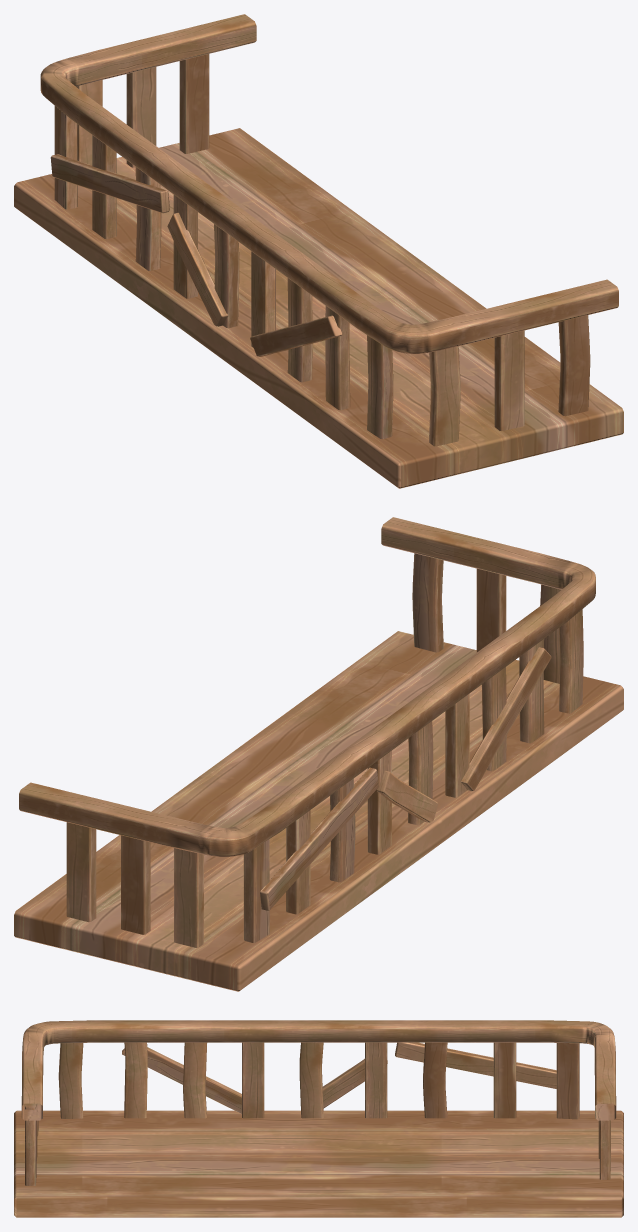
The model's file is SM_Balcony_01.fbx.
3 renders of one model, top to bottom at view 1: azimuth 30°, elevation 25°; view 2: azimuth 150°, elevation 25°; view 3: azimuth 270°, elevation 25°, orthographic. The views are drawn at different scales.
Visible parts, largest first — view 1: SM_Balcony_01_LOD0; view 2: SM_Balcony_01_LOD0; view 3: SM_Balcony_01_LOD0.
Part boxes in pixels (<box>): SM_Balcony_01_LOD0: <box>14,14,623,488</box>; SM_Balcony_01_LOD0: <box>14,517,623,991</box>; SM_Balcony_01_LOD0: <box>14,1020,623,1217</box>.
Size of the model in its own units: 155 by 458 by 94.4.
Materials: 1 (1 with a texture image).
